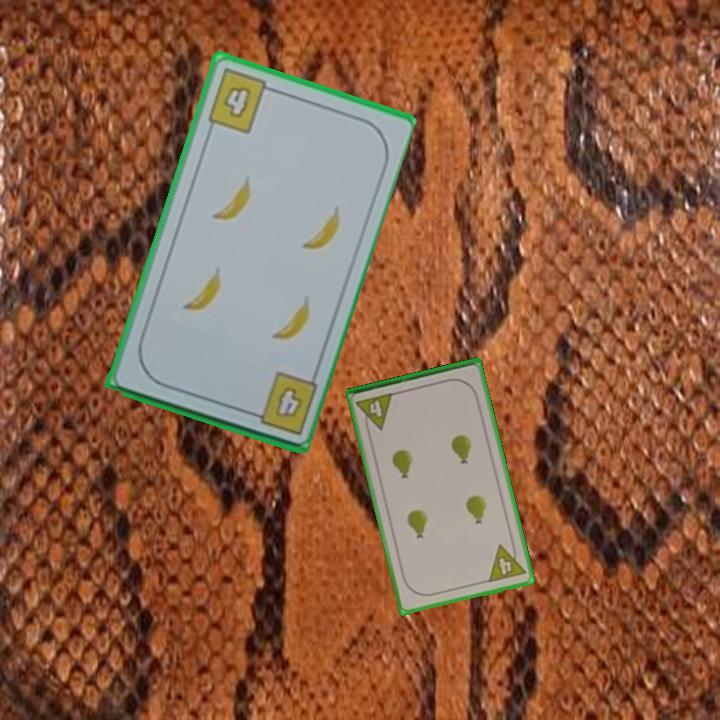4b: (203, 65, 278, 137), (243, 368, 320, 438)
4p: (353, 389, 397, 435), (485, 538, 528, 585)
